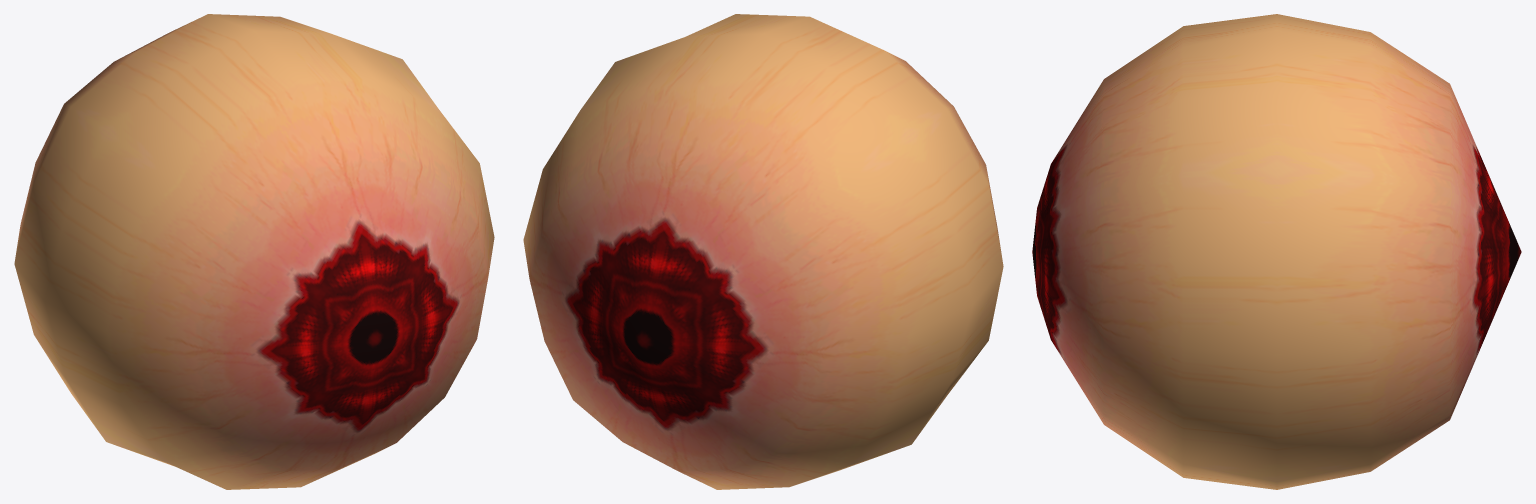
The model's file is EyeSmall.gltf.
3 views of the same model, side by side, from view 1: azimuth 30°, elevation 25°; view 2: azimuth 150°, elevation 25°; view 3: azimuth 270°, elevation 25° (orthographic).
Parts seen in each view (by area): view 1: EyeSmallMesh; view 2: EyeSmallMesh; view 3: EyeSmallMesh.
Boxes of the visible parts, x1,y1,x2,y2 form: EyeSmallMesh: (14,14,494,489); EyeSmallMesh: (523,14,1003,489); EyeSmallMesh: (1032,14,1521,489).
Size of the model in its own units: 2.33 by 2.33 by 2.33.
1 material, 1 textured.
